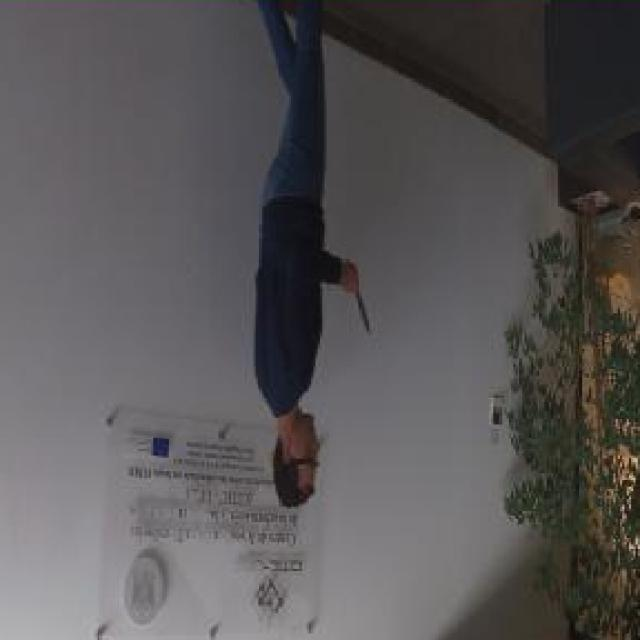knife: (346, 255, 374, 338)
